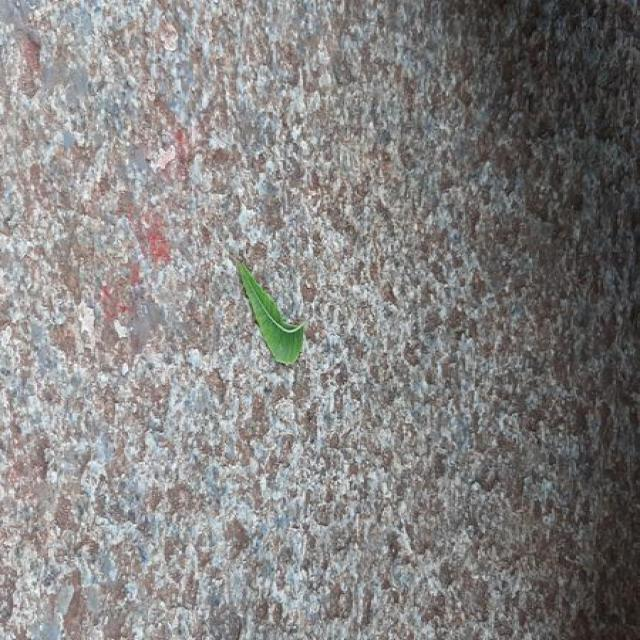neem: (240, 264, 305, 363)
